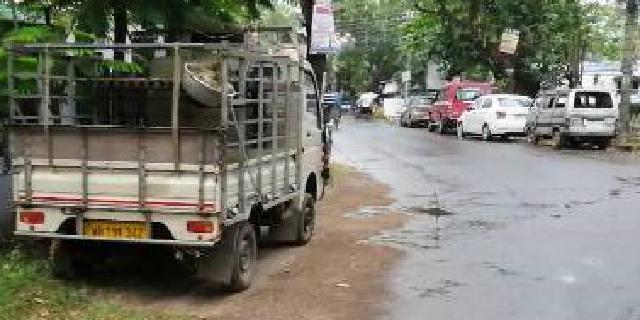Car: (458, 92, 529, 149), (425, 85, 485, 130)
Minitruck: (10, 40, 338, 283)
Van: (518, 87, 620, 147)
